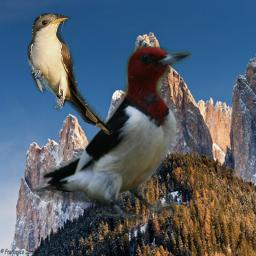Cuckoo: (27, 13, 113, 137)
Woodpecker: (32, 46, 194, 221)
